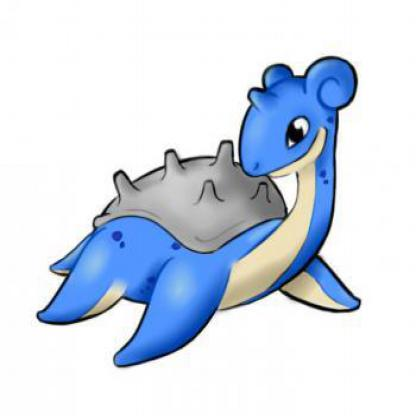Lapras: (28, 45, 379, 389)
